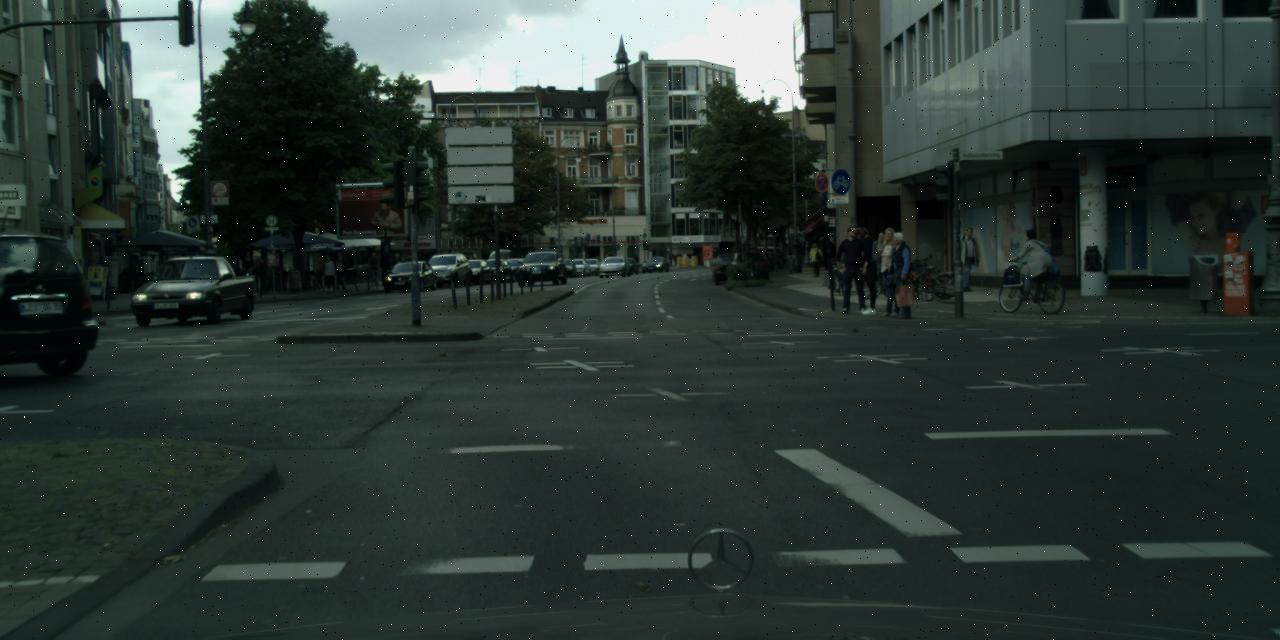ped: (871, 227, 907, 315), (847, 225, 882, 313), (836, 226, 870, 312), (884, 232, 918, 317), (1017, 230, 1045, 298), (953, 227, 979, 290), (869, 232, 892, 288), (95, 251, 114, 298), (332, 252, 347, 290), (322, 256, 336, 290), (252, 259, 265, 292), (808, 243, 821, 276), (392, 252, 403, 282), (594, 255, 599, 269), (667, 251, 672, 265), (672, 254, 677, 264)
